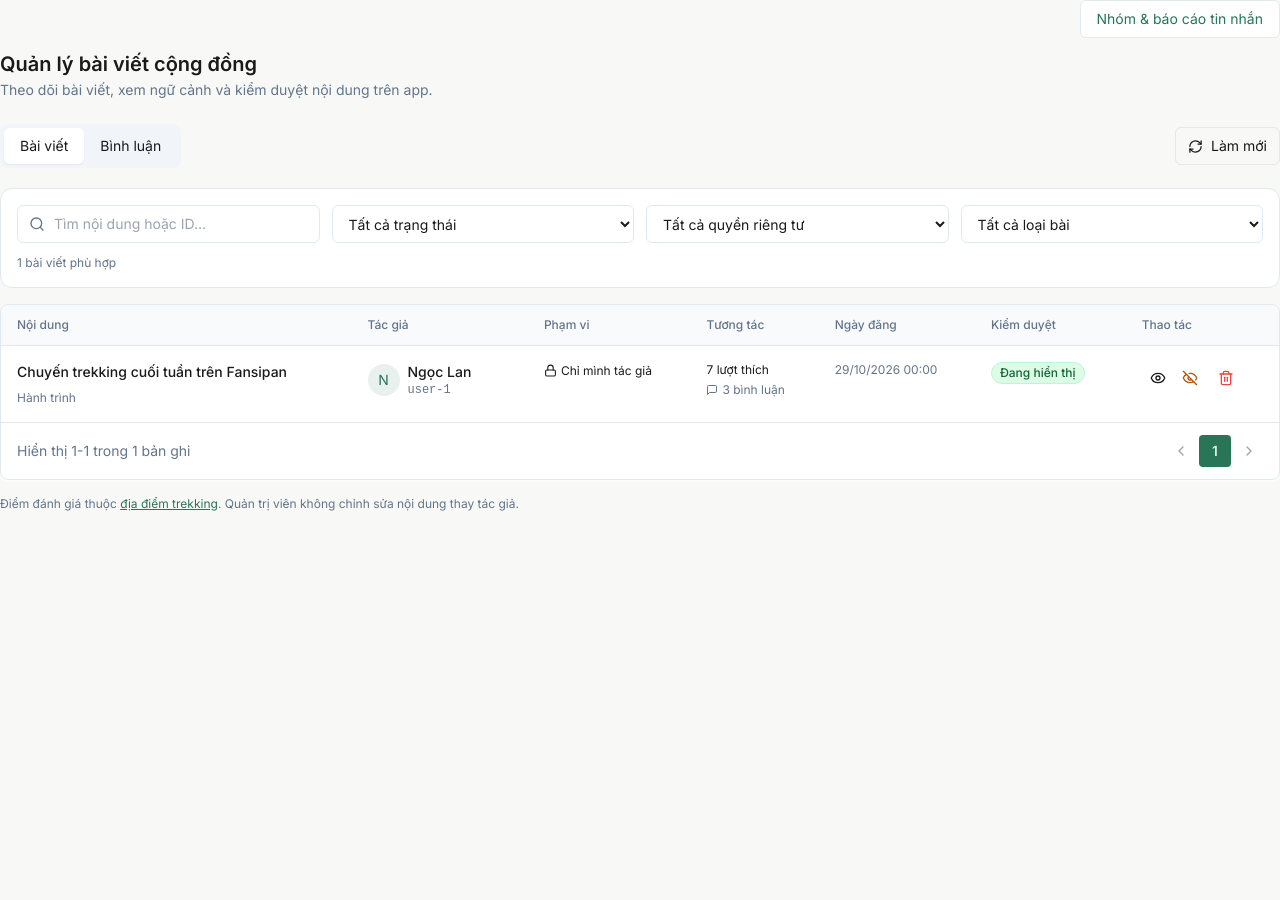
Test: requires a moderation reason and sends a hidden/publish action with its captured entity
Click the button named "Ẩn post-1". click: (1190, 378)
box: [1174, 362, 1206, 394]
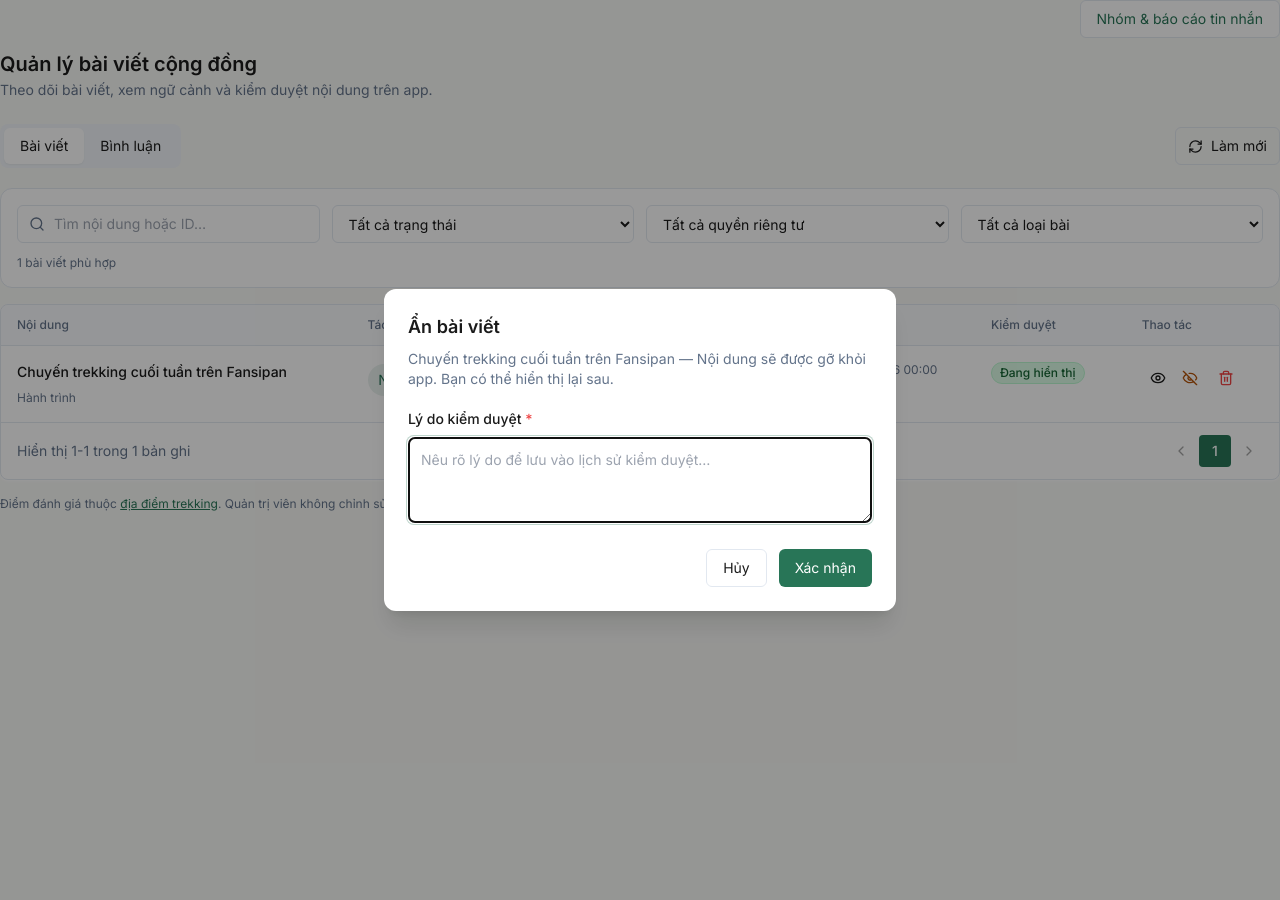
Click the button "Xác nhận". click: (825, 568)
box: [779, 549, 872, 587]
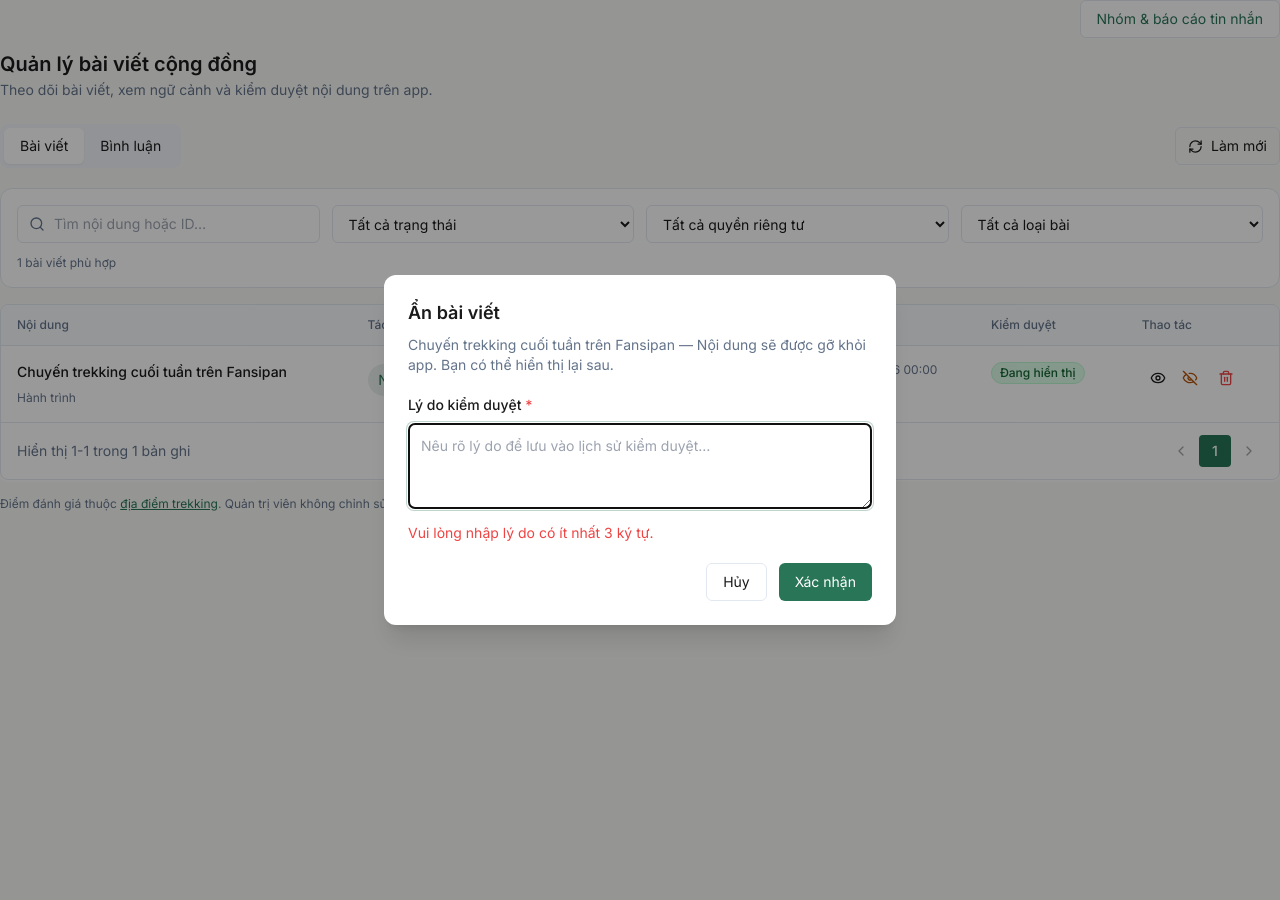
Result: the message shows "ít nhất 3 ký tự" at [408, 524, 654, 541]
Type "  Nội dung cần rà soát  " into the text box labelled "Lý do kiểm duyệt *". click: (640, 466)
box: [408, 423, 872, 509]
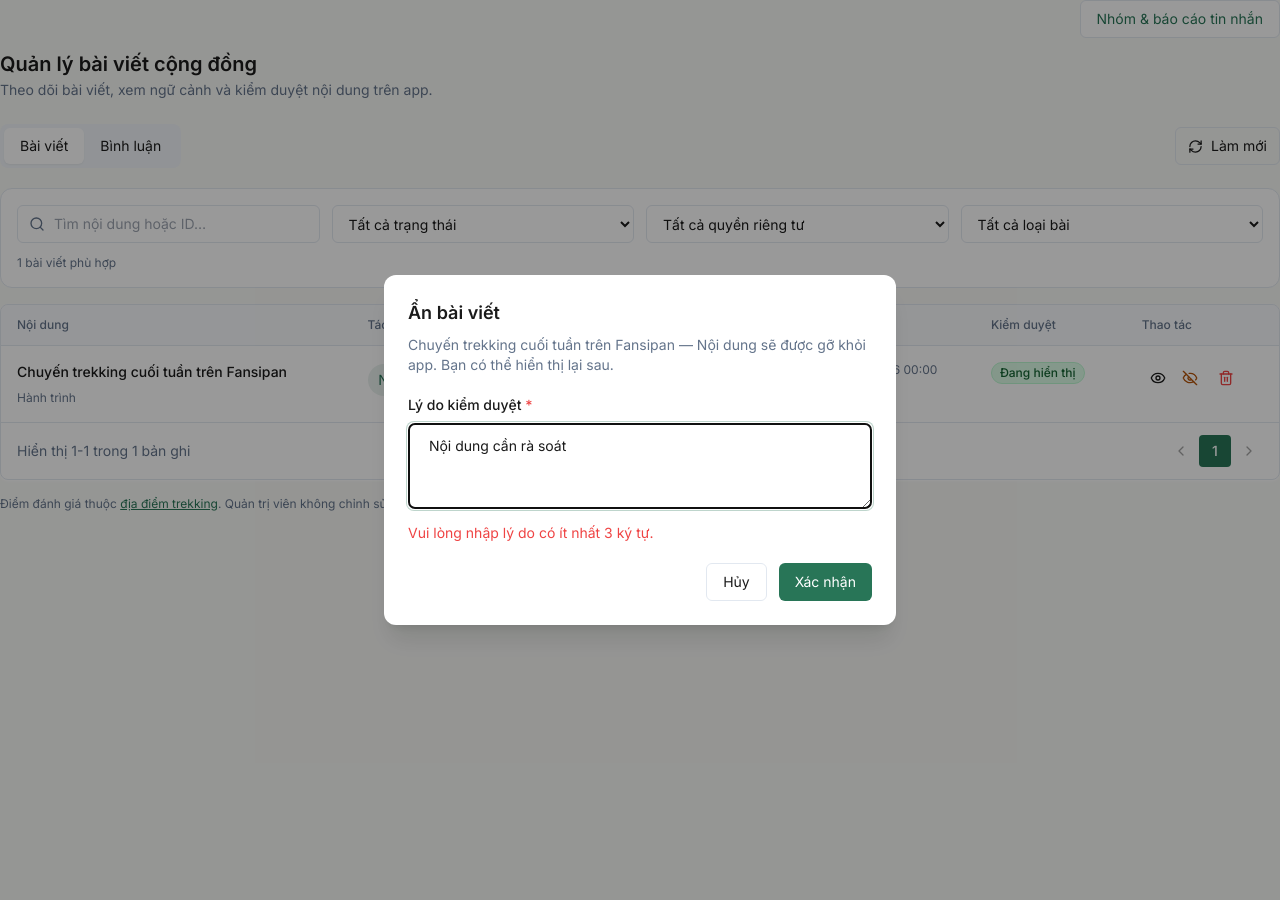
Click the button "Xác nhận". click: (825, 582)
box: [779, 563, 872, 601]
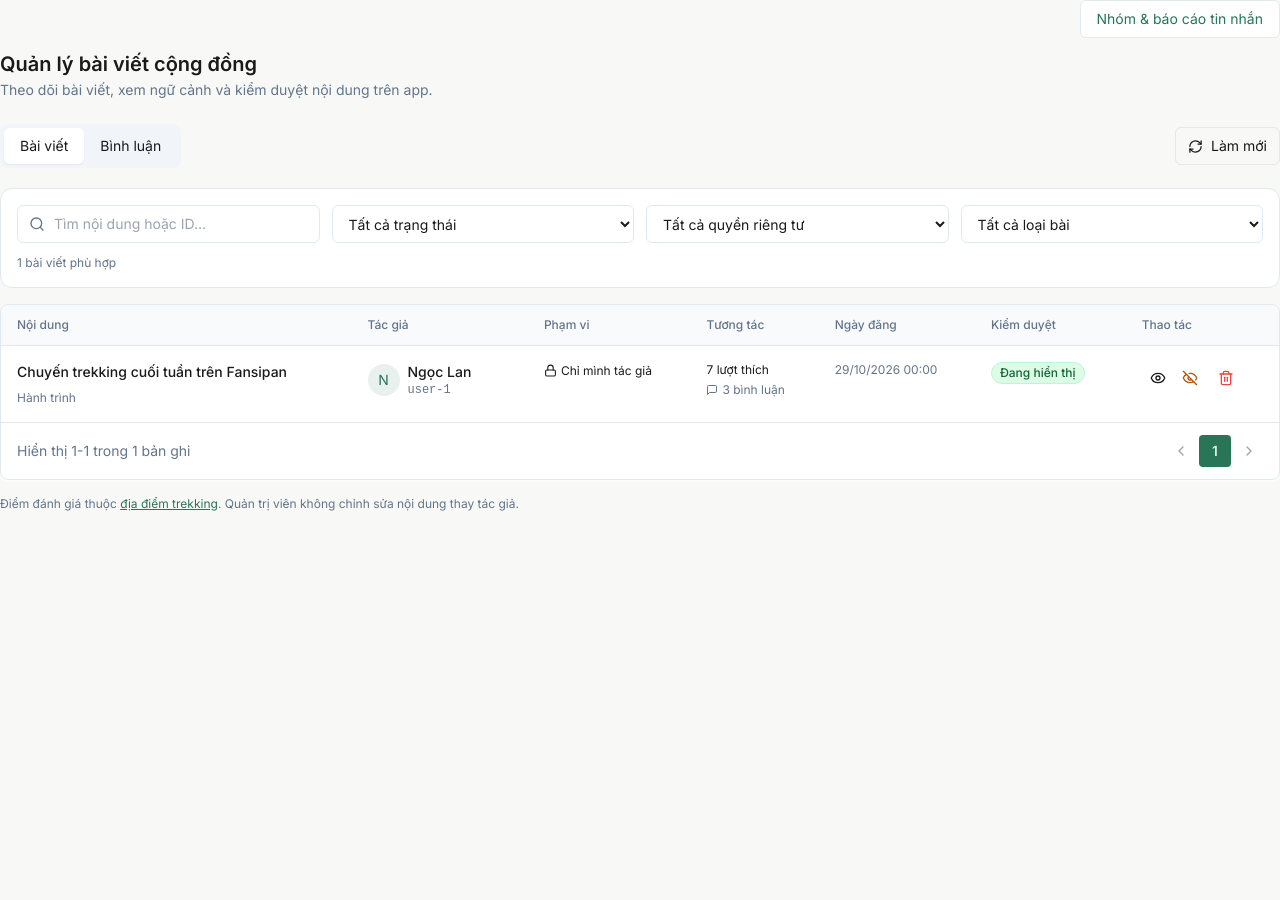
Result: the heading "Ẩn bài viết" is gone
